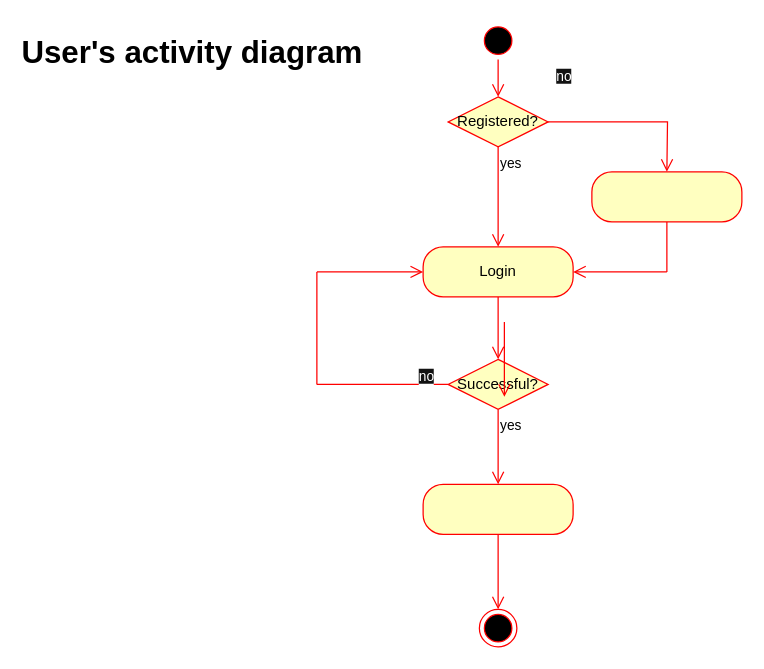
Some shapes in this 764 by 669 pixel diagram are drawn without their labels. Here are the shapes that lost their labels. From the top down, the centre of each, then its label:
At (666,196): "Register".
At (497,508): "Display Dashboard".
